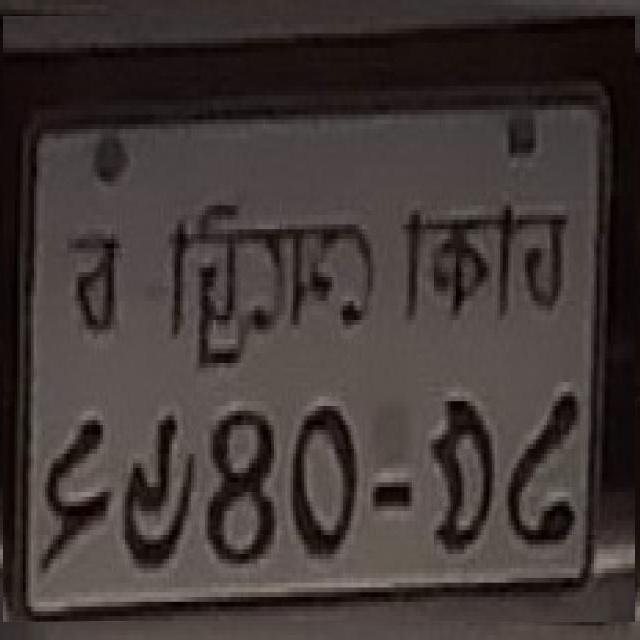numberplate: (3, 16, 635, 622)
